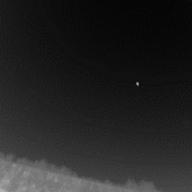Target: (134, 81, 139, 86)
